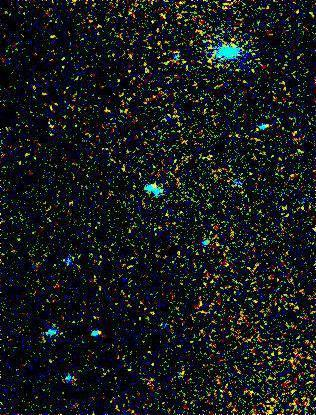star: (83, 316, 113, 346)
